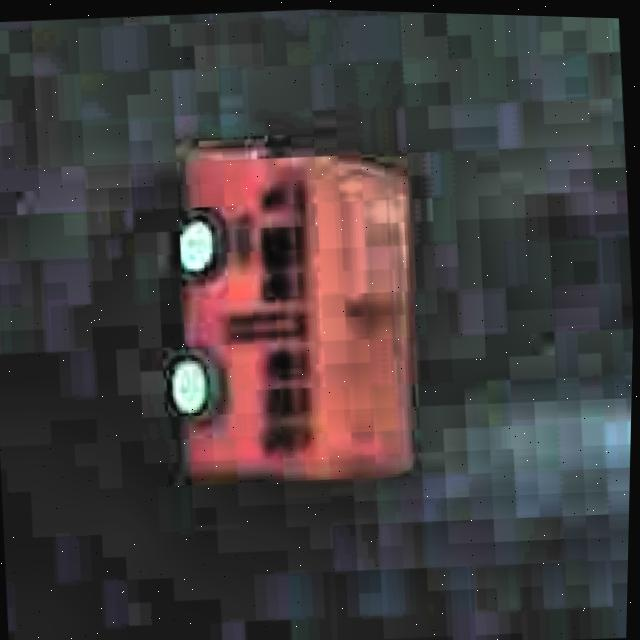bus: (140, 119, 441, 500)
